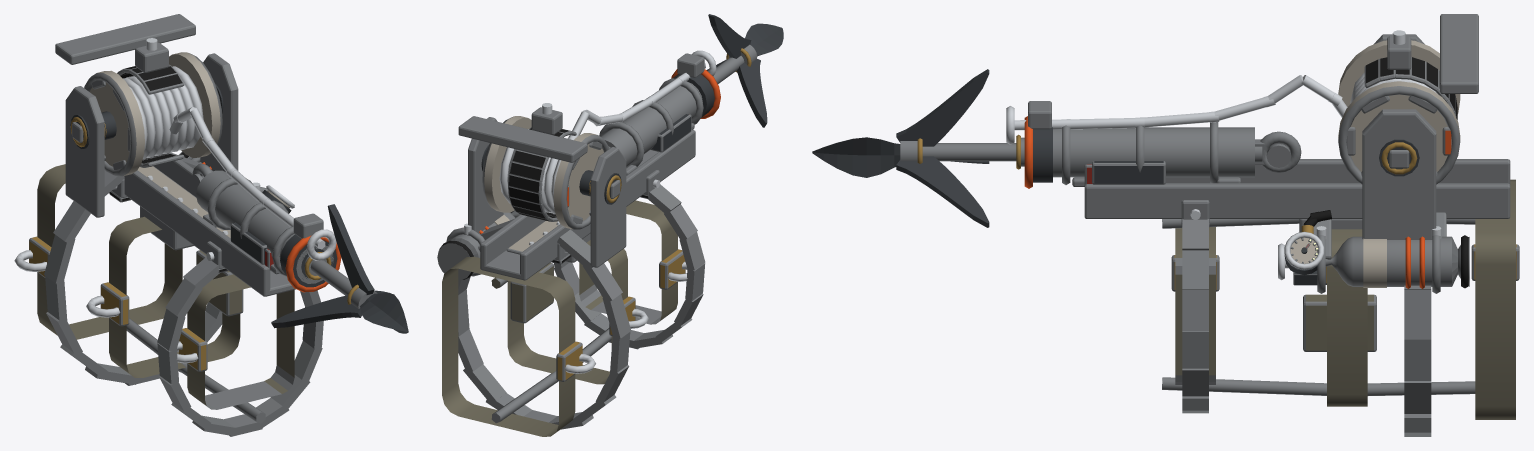
The model's file is grapple_bracer.fbx.
3 views of the same model, side by side, from view 1: azimuth 30°, elevation 25°; view 2: azimuth 150°, elevation 25°; view 3: azimuth 270°, elevation 25° (orthographic). The views are drawn at different scales.
Parts seen in each view (by area): view 1: Mesh_GrappleBracer_Frame, Mesh_ArmCuff_Webbing, Mesh_CableDrum_Winch, Mesh_GrappleHarpoon, Mesh_GasBottle_Single; view 2: Mesh_GrappleBracer_Frame, Mesh_ArmCuff_Webbing, Mesh_CableDrum_Winch, Mesh_GrappleHarpoon, Mesh_GasBottle_Single; view 3: Mesh_GrappleBracer_Frame, Mesh_ArmCuff_Webbing, Mesh_CableDrum_Winch, Mesh_GrappleHarpoon, Mesh_GasBottle_Single.
Part boxes in pixels (bbox=[...]): Mesh_GrappleBracer_Frame: bbox=[44, 14, 341, 436]; Mesh_ArmCuff_Webbing: bbox=[14, 164, 294, 423]; Mesh_CableDrum_Winch: bbox=[72, 38, 222, 176]; Mesh_GrappleHarpoon: bbox=[191, 163, 408, 333]; Mesh_GasBottle_Single: bbox=[178, 151, 294, 213]; Mesh_GrappleBracer_Frame: bbox=[446, 50, 720, 429]; Mesh_ArmCuff_Webbing: bbox=[442, 200, 687, 436]; Mesh_CableDrum_Winch: bbox=[482, 103, 620, 229]; Mesh_GrappleHarpoon: bbox=[609, 14, 783, 148]; Mesh_GasBottle_Single: bbox=[437, 210, 515, 280]; Mesh_GrappleBracer_Frame: bbox=[1006, 14, 1510, 436]; Mesh_ArmCuff_Webbing: bbox=[1162, 179, 1519, 419]; Mesh_CableDrum_Winch: bbox=[1301, 30, 1460, 184]; Mesh_GrappleHarpoon: bbox=[812, 69, 1301, 227]; Mesh_GasBottle_Single: bbox=[1278, 210, 1469, 288].
Size of the model in its own units: 13.76 by 23.4 by 38.2.
